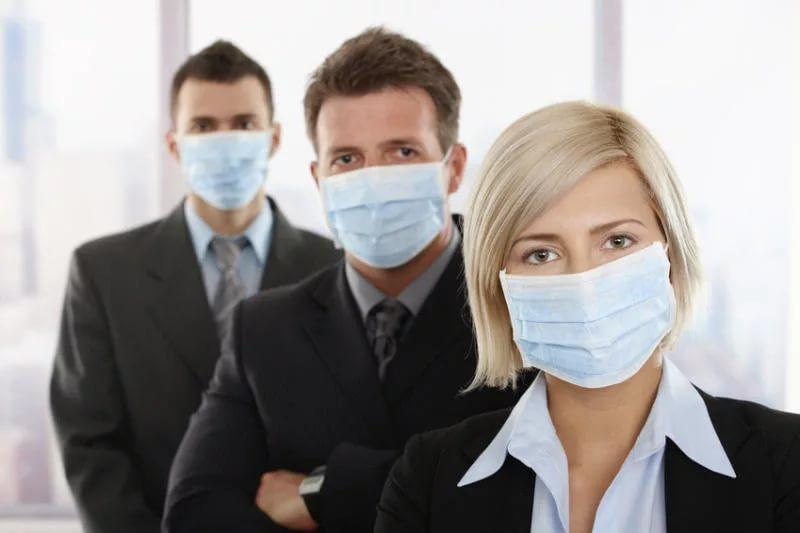mask: (506, 168, 681, 374), (315, 96, 445, 272), (173, 75, 274, 208)
